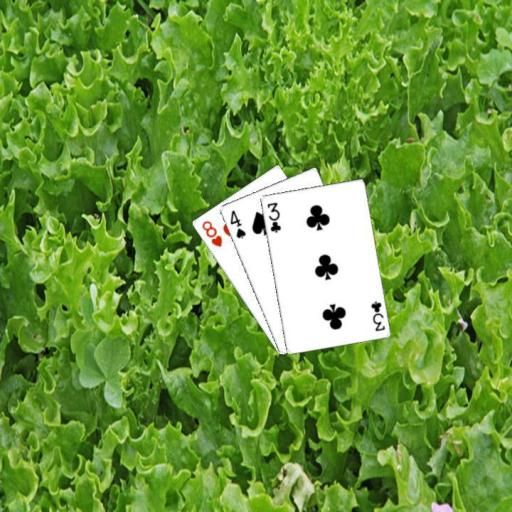3C: (264, 199, 282, 234), (368, 298, 386, 333)
4S: (227, 207, 247, 240)
8H: (199, 217, 224, 249)
